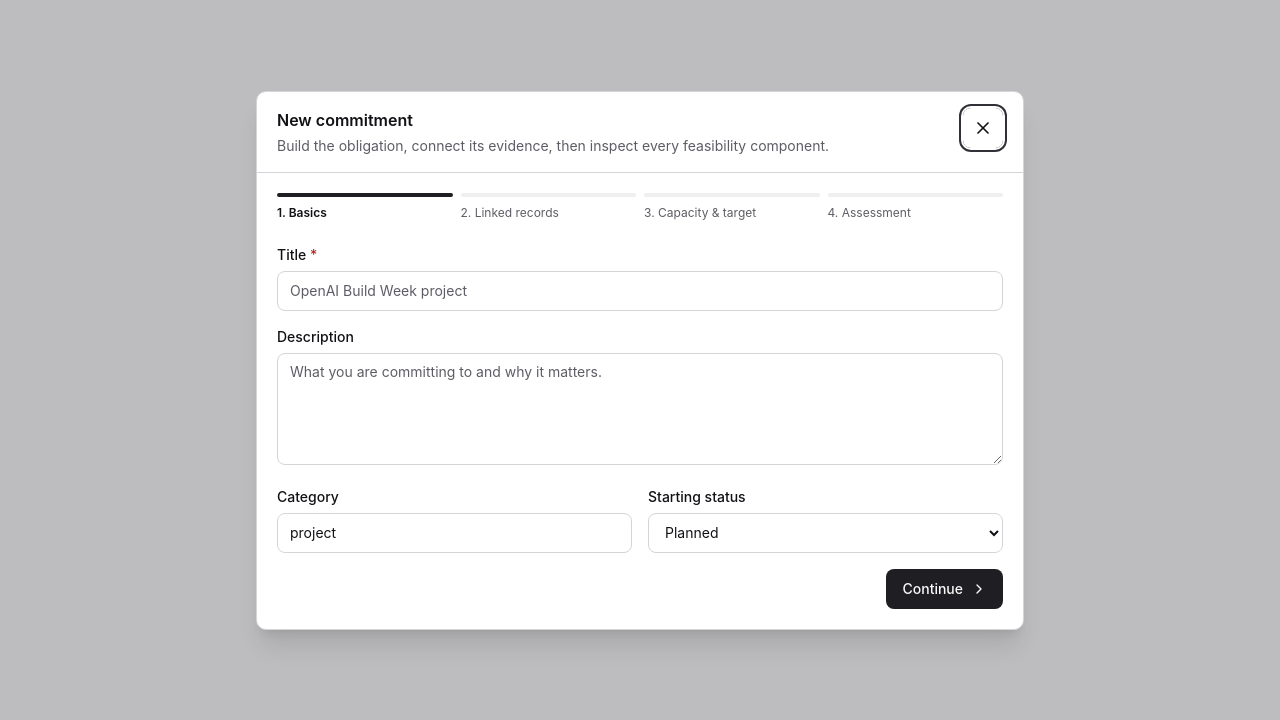
Test case: CommitmentWizard › creates a commitment, links selected evidence, and shows component assessment
In the field labelled "Title *": (640, 290) x1=277 y1=270 x2=1003 y2=310, type "Berlin conference"
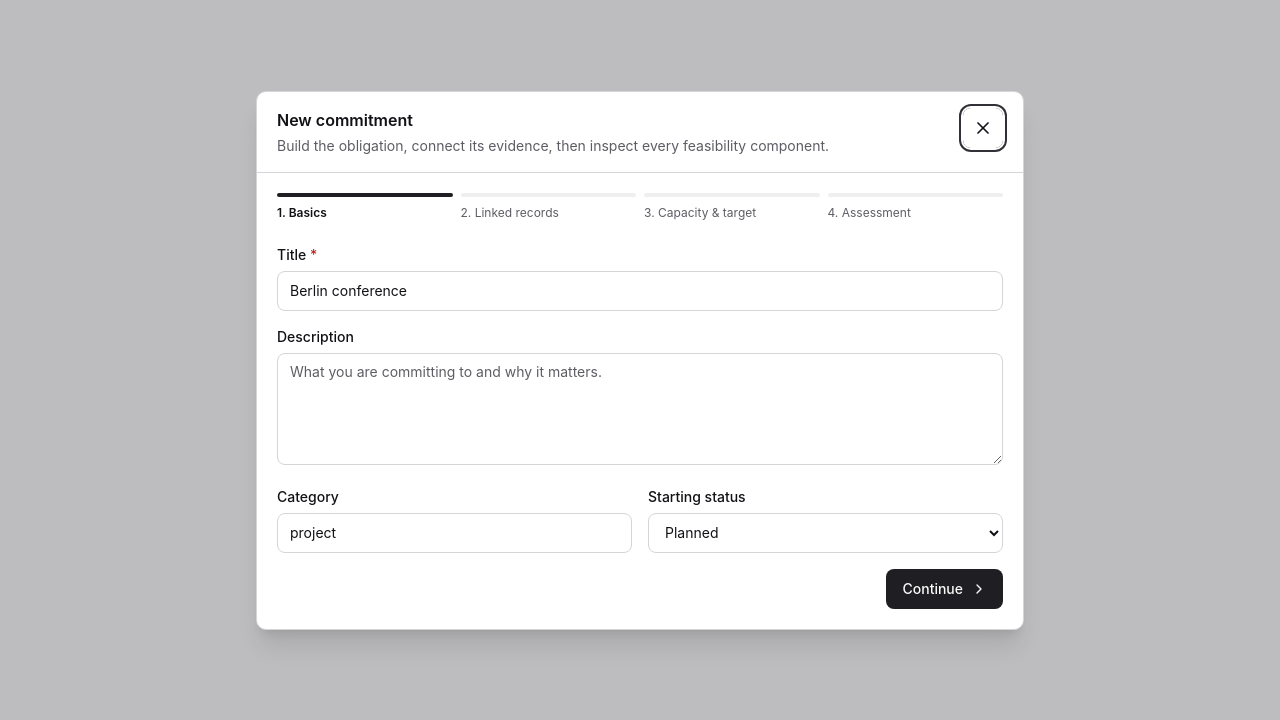
Click the button "Continue": (945, 588) x1=886 y1=568 x2=1003 y2=608
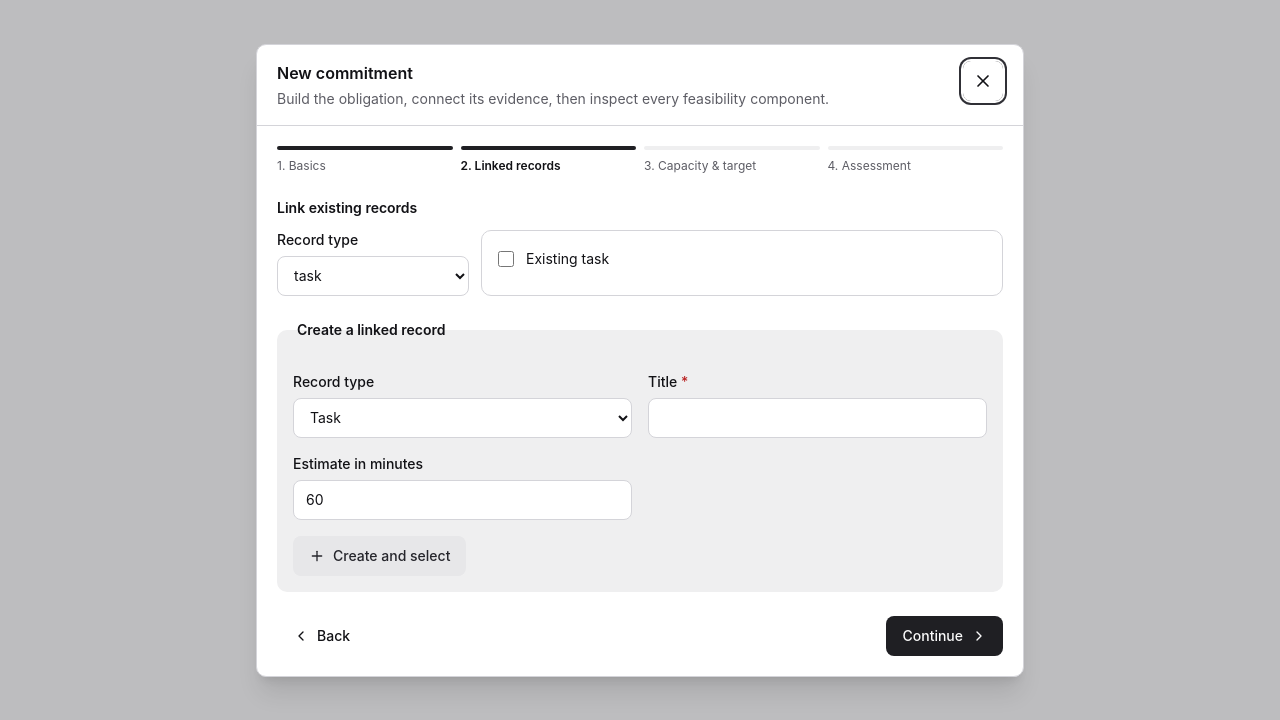
Check: the text "Existing task" is shown
Click the text "Existing task": (568, 258) x1=526 y1=248 x2=609 y2=268
(page scrolled)
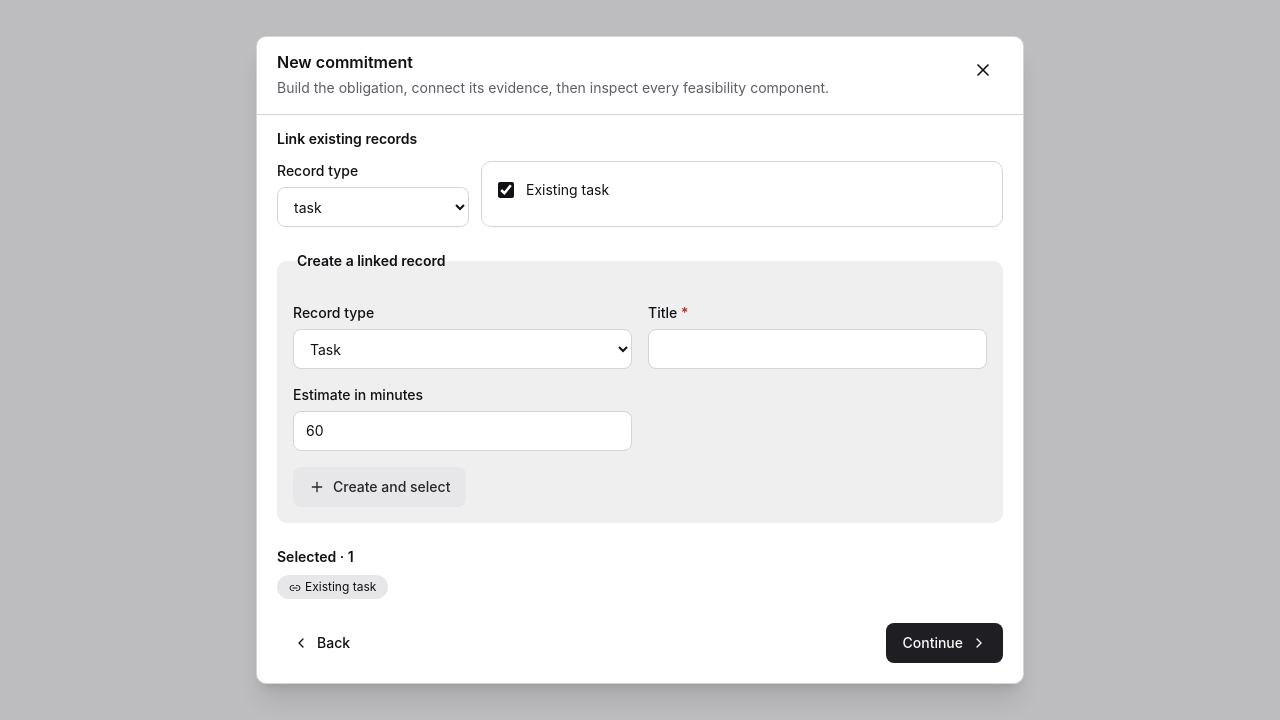
Click the button "Continue": (945, 643) x1=886 y1=623 x2=1003 y2=663
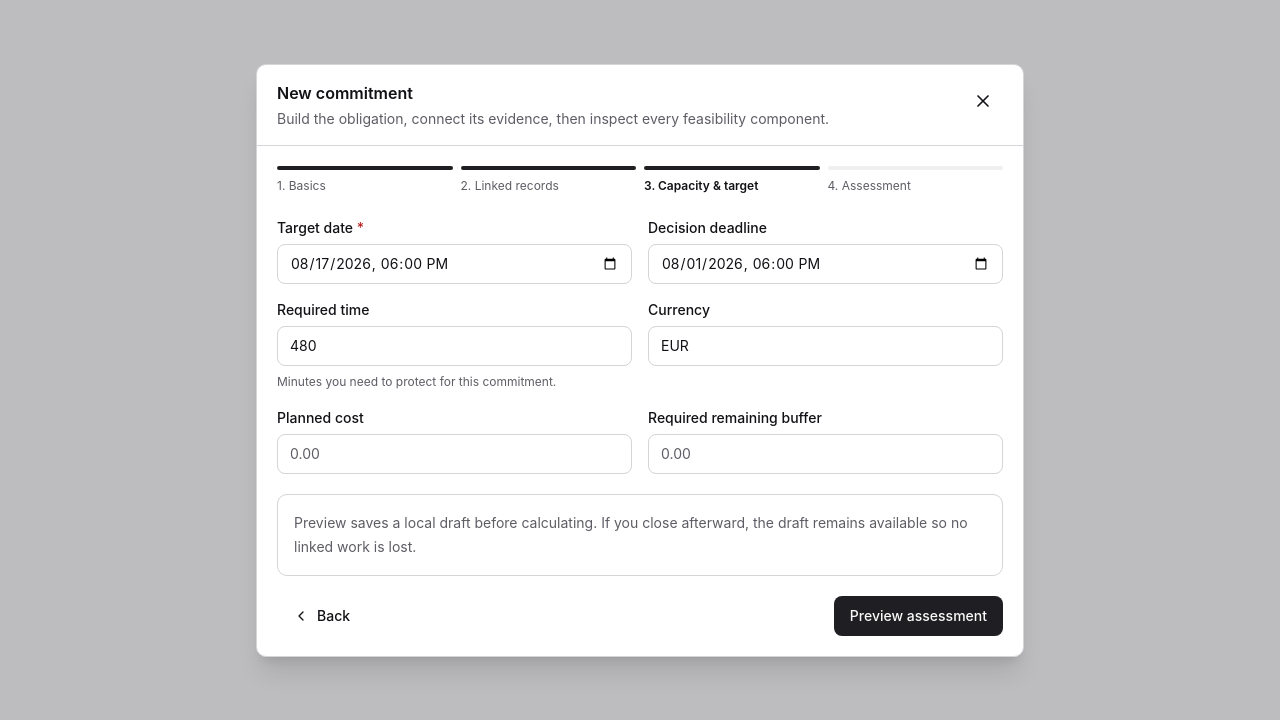
Click the button "Preview assessment": (918, 616) x1=834 y1=596 x2=1003 y2=636
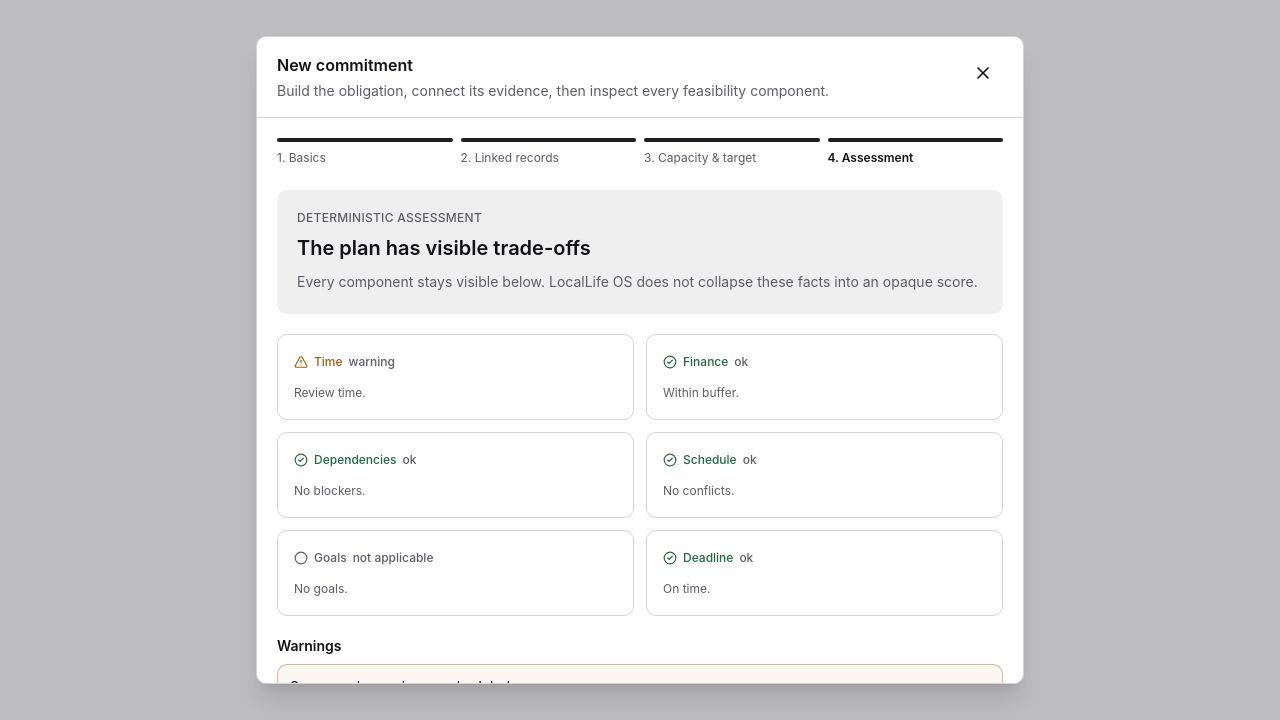
Check: the heading "The plan has visible trade-offs" is shown, box x1=297 y1=236 x2=591 y2=260
